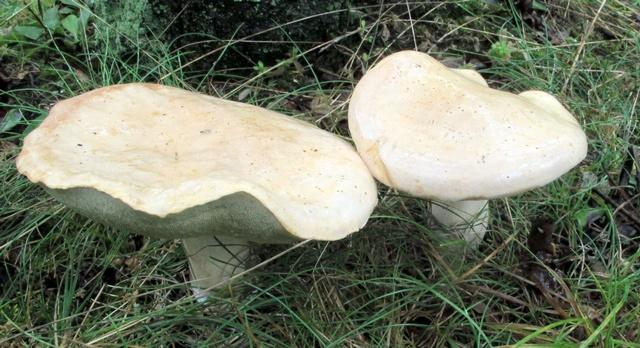Edible Mushroom: (14, 80, 378, 303), (347, 48, 588, 250)
